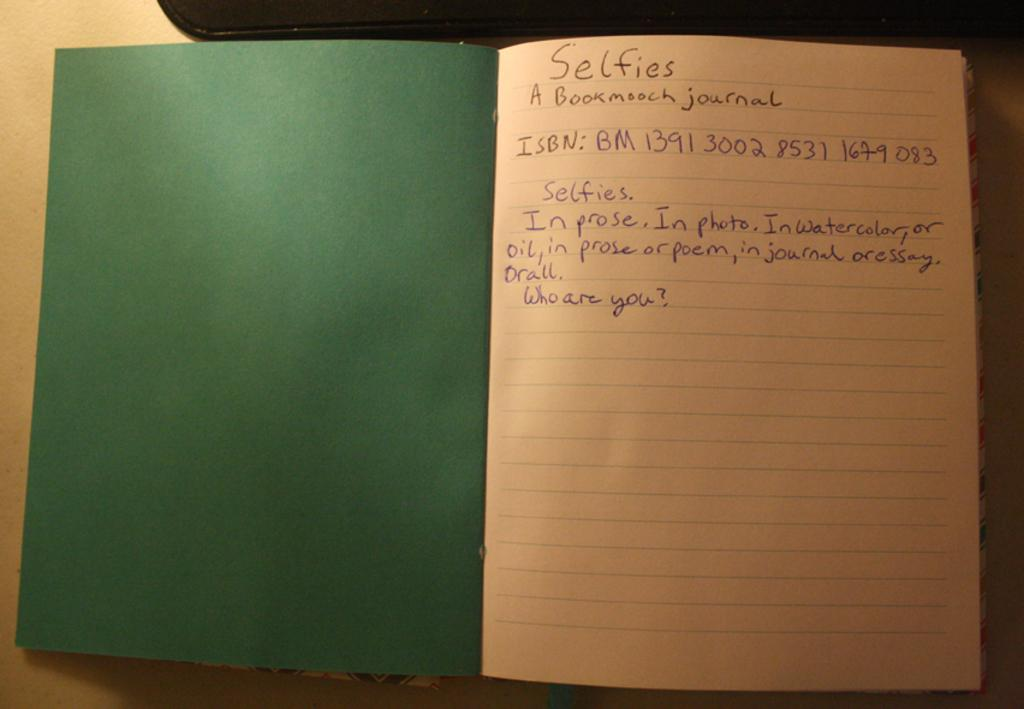book: (23, 6, 859, 687)
